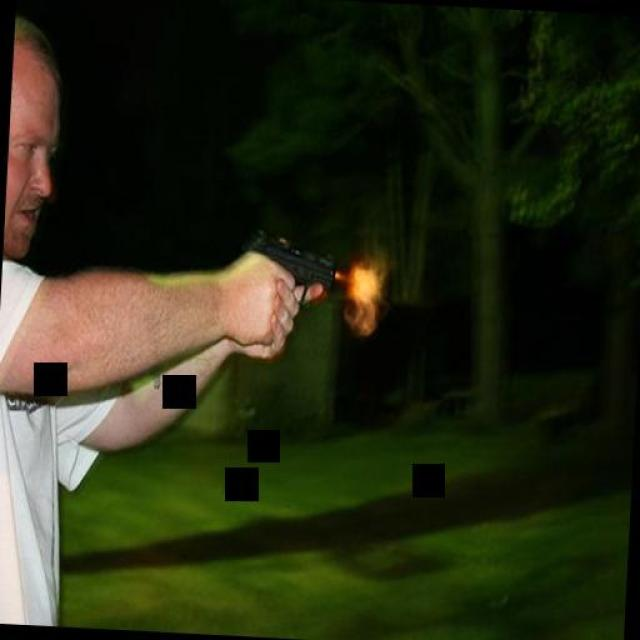gun: (239, 225, 341, 309)
